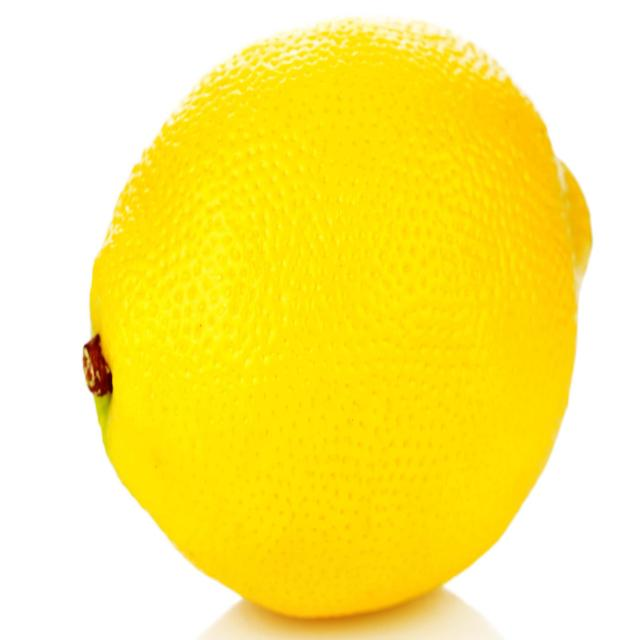lemon: (73, 8, 596, 640)
